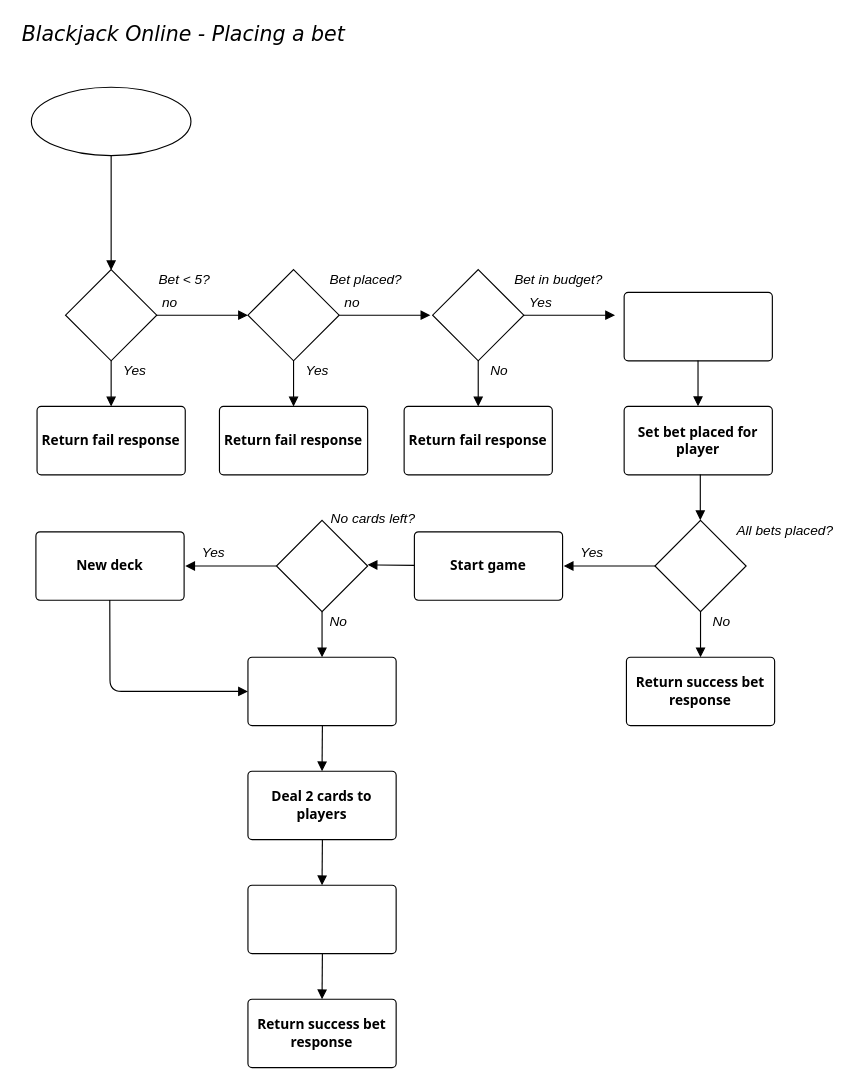
The diagram is 857 pixels wide and 1088 high, and some of its shapes have lost their labels. The shapes that lost their labels are listed below. From the top down, each one's centre as x and y in pixels, then its label:
point 110,121: Send bet request
point 697,326: Set bet for player
point 321,691: Remove cards from players
point 321,919: Deal 2 cards to dealer (1 face down)
